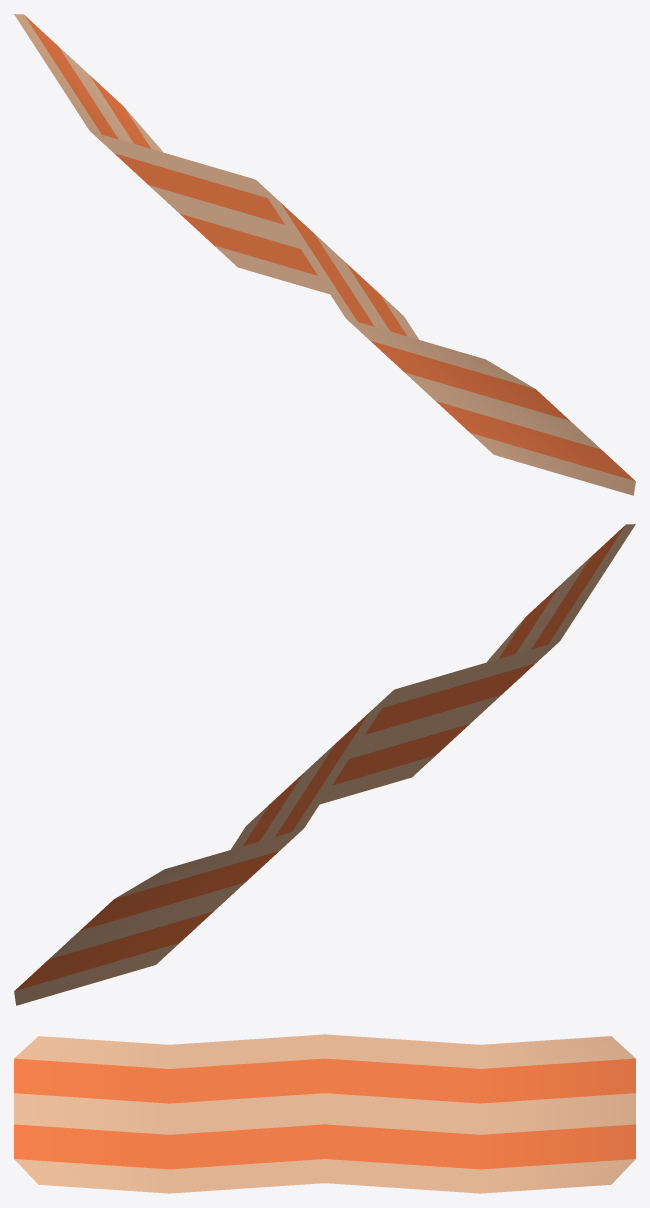
Rendered from bacon-raw.glb.
The picture shows the model from 3 angles, top to bottom: view 1: azimuth 30°, elevation 25°; view 2: azimuth 150°, elevation 25°; view 3: azimuth 270°, elevation 25°; orthographic projection. The views are drawn at different scales.
Parts seen in each view (by area): view 1: bacon-raw; view 2: bacon-raw; view 3: bacon-raw.
Boxes of the visible parts, x1,y1,x2,y2 form: bacon-raw: [14, 14, 635, 495]; bacon-raw: [14, 524, 635, 1005]; bacon-raw: [14, 1034, 635, 1193].
Size of the model in its own units: 0.6989 by 0.7476 by 3.33.
Materials: 1 (1 with a texture image).
